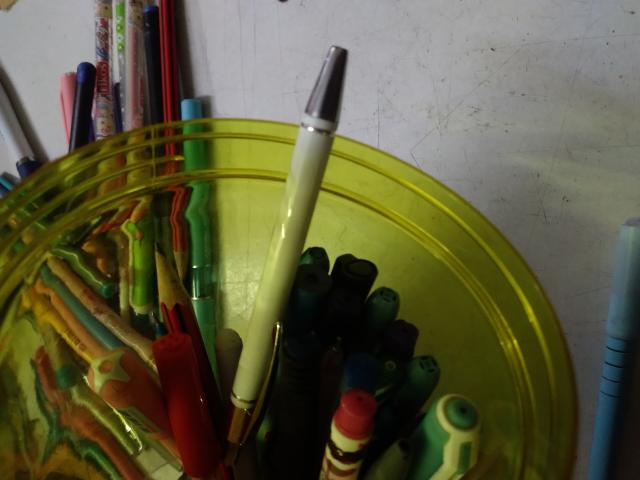PEN: (49, 219, 449, 348), (1, 307, 84, 480), (11, 96, 127, 187)
